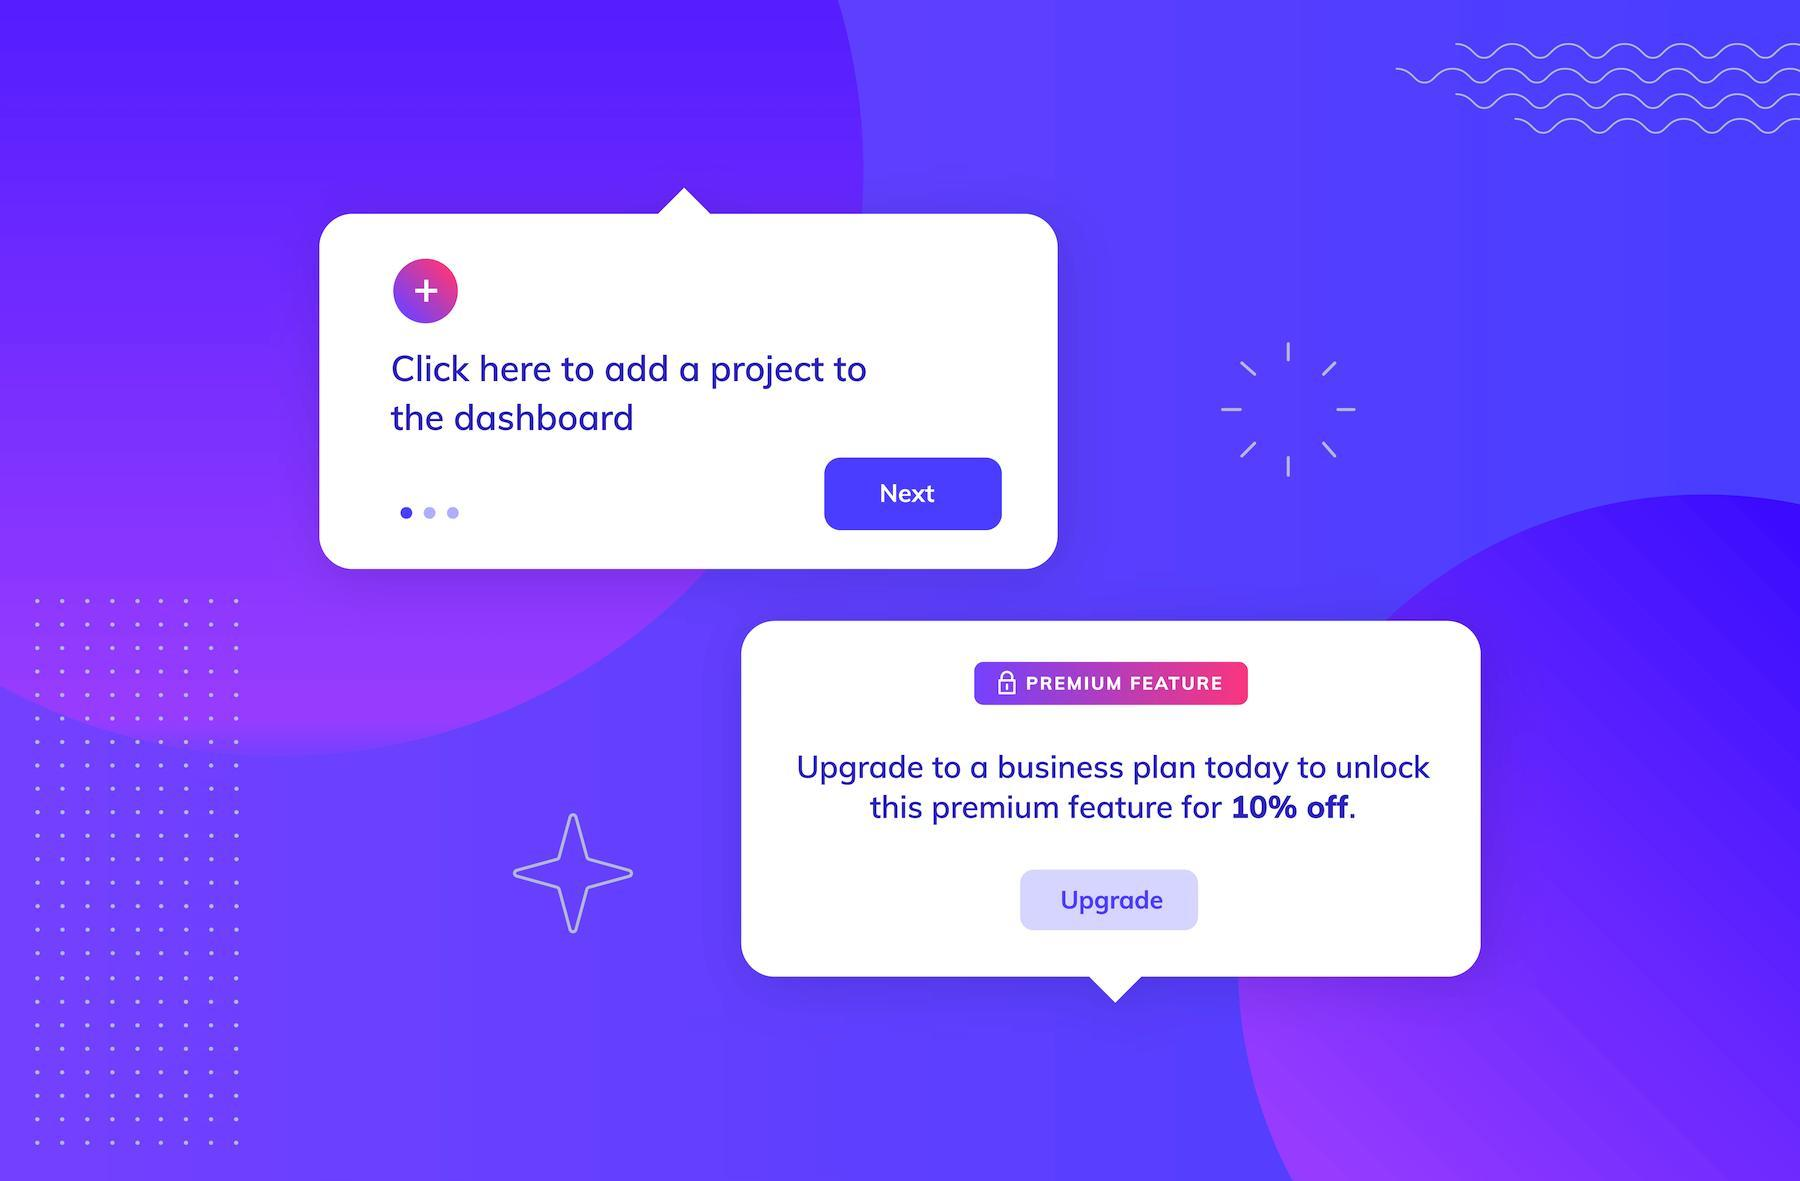button: (824, 459, 1001, 534), (1019, 867, 1203, 935)
